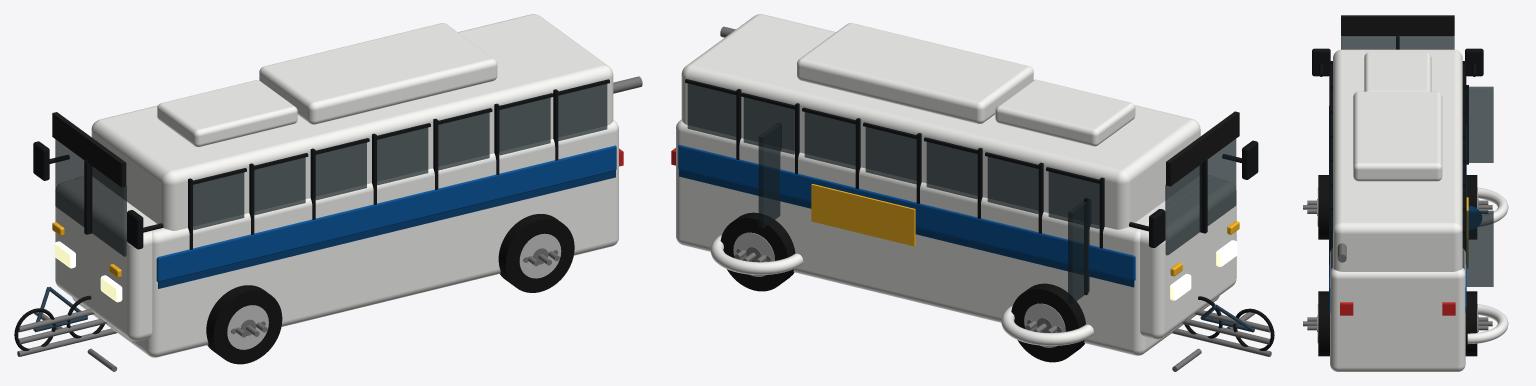
The model's file is mta_bus.glb.
3 renders of one model, left to right at view 1: azimuth 30°, elevation 25°; view 2: azimuth 150°, elevation 25°; view 3: azimuth 270°, elevation 25°, orthographic. The views are drawn at different scales.
Size of the model in its own units: 12.51 by 4.49 by 4.92.
